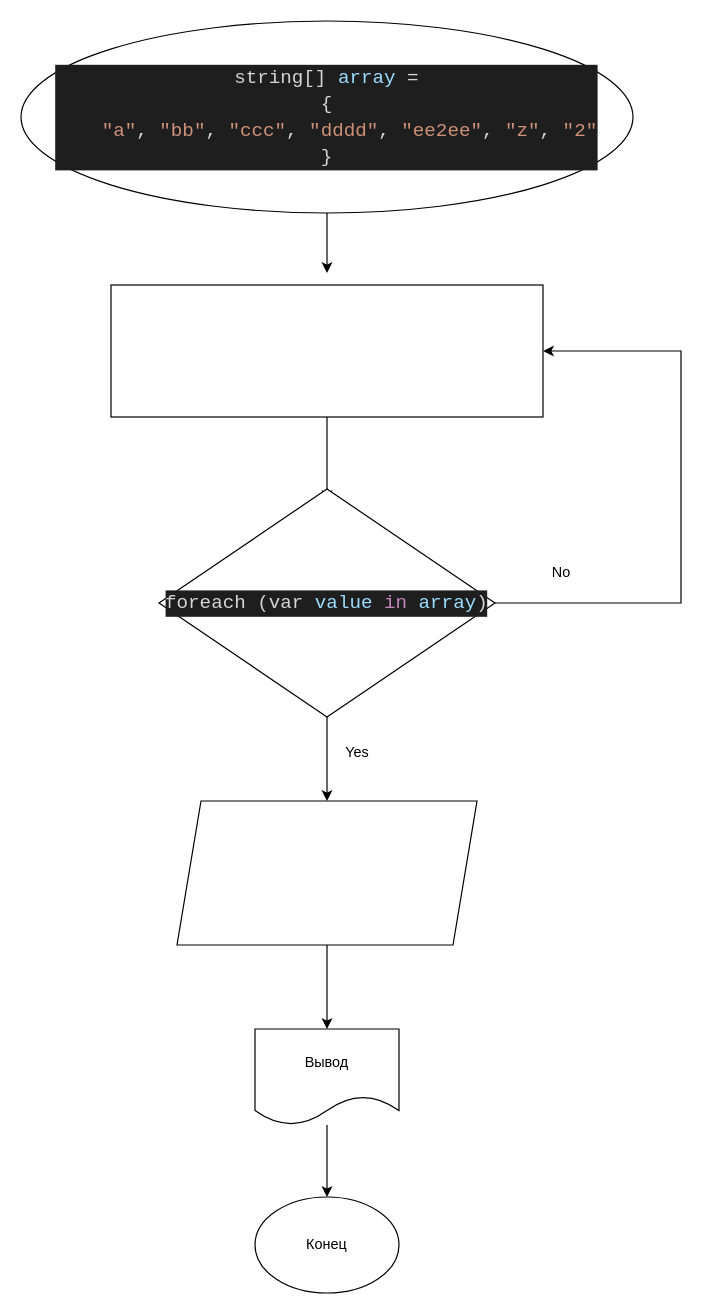
Image size: 712x1314. Some labels were removed from this diagram. The box of each missing label's shape, as (x1, y1, x2, y2) in pixels:
if (value. Length <= 3 ) result[ i ] = value ; i ++;: (176, 800, 477, 945)
var result = new string [ array . Length ]; var i = 0 ;: (110, 284, 543, 417)
